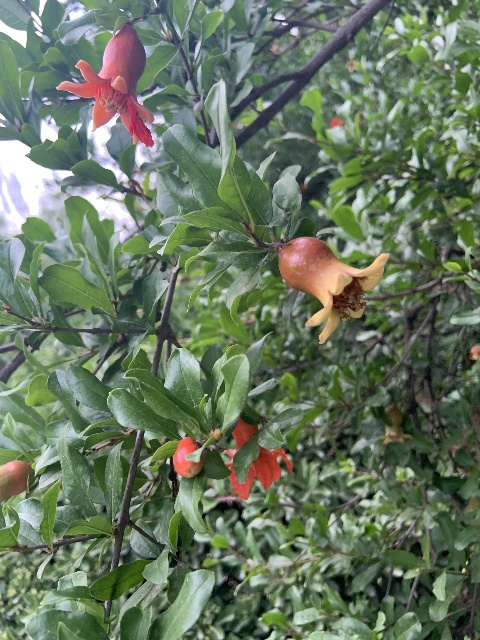bud: (173, 436, 203, 477)
early-fruit: (277, 235, 389, 344), (377, 403, 413, 445)
flower: (56, 23, 155, 146), (223, 415, 292, 499)
